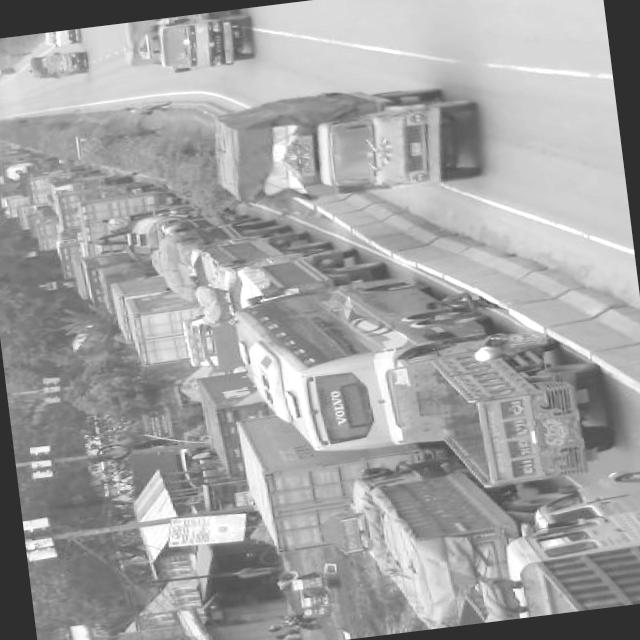bus: (268, 267, 508, 451)
car: (42, 32, 76, 48)
motorcycle: (266, 616, 320, 636)
truck: (385, 330, 615, 498), (205, 78, 483, 208), (245, 452, 358, 554), (382, 486, 562, 550), (223, 241, 385, 300), (120, 11, 254, 78), (530, 467, 640, 525), (190, 228, 330, 270), (157, 215, 288, 251), (132, 304, 186, 365), (54, 180, 152, 208), (26, 50, 86, 82)
